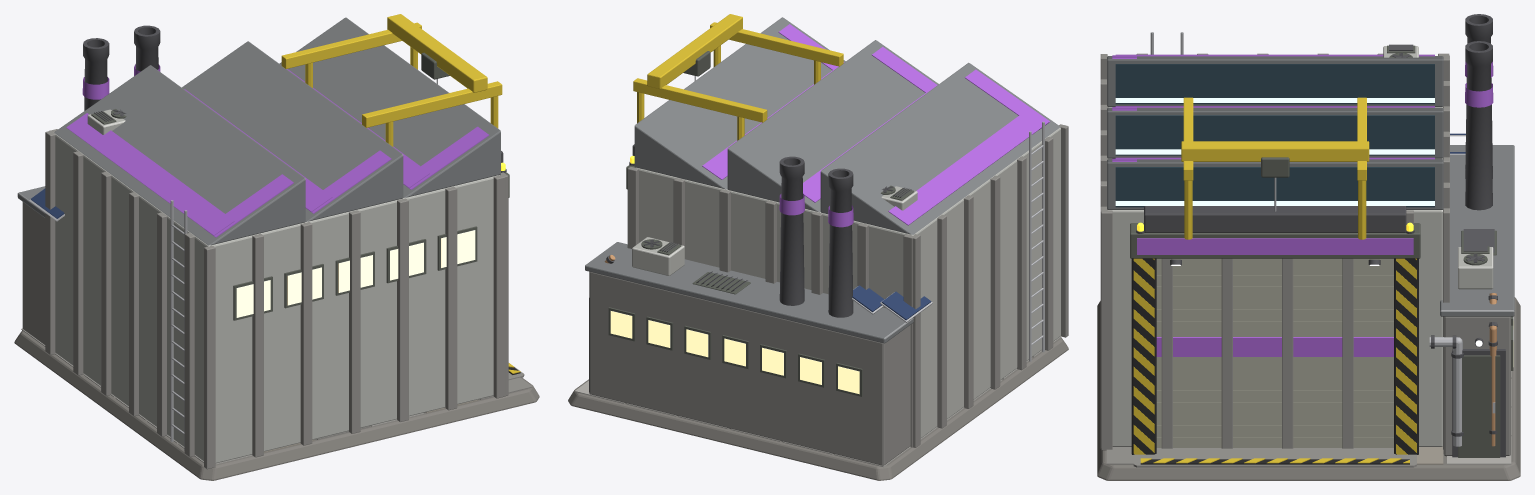
Rendered from factory_purple.glb.
3 views of the same model, side by side, from view 1: azimuth 30°, elevation 25°; view 2: azimuth 150°, elevation 25°; view 3: azimuth 270°, elevation 25° (orthographic). The views are drawn at different scales.
Visible parts, largest first — view 1: Body; view 2: Body; view 3: Body.
Boxes of the visible parts, box(x1,y1,x2,y2) form: Body: box(14, 14, 539, 480); Body: box(568, 14, 1068, 480); Body: box(1097, 14, 1520, 480).
Bounding box in the file's own units: 5.99 × 5.04 × 5.98.
Materials: 1 (1 with a texture image).
